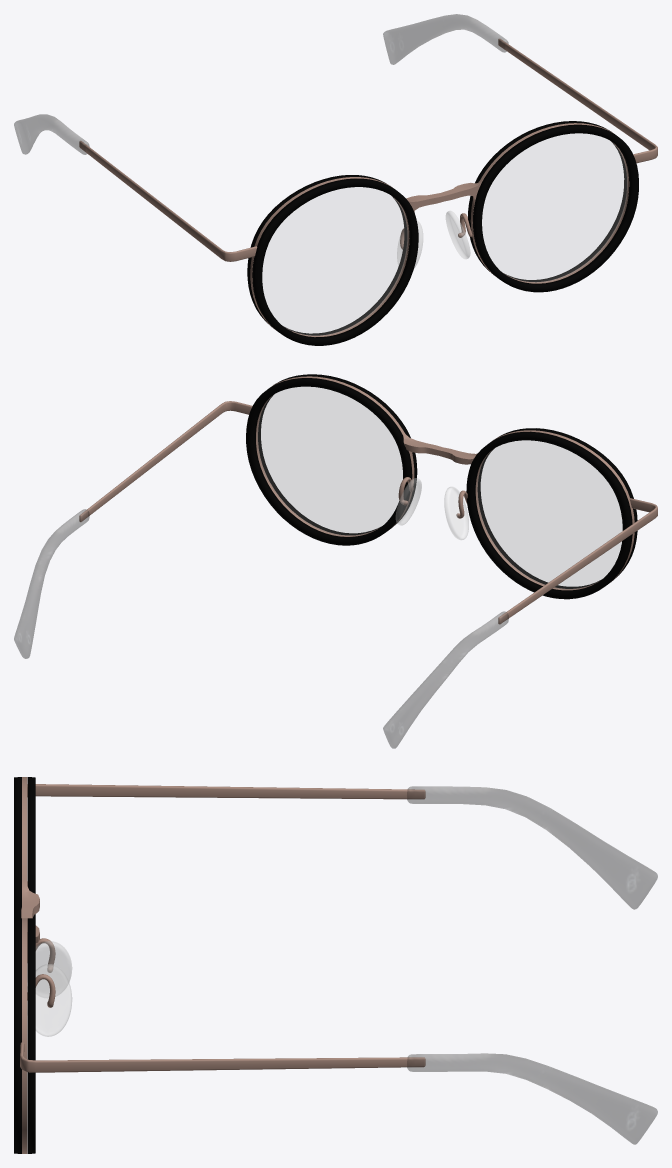
Rendered from variant-9.glb.
3 renders of one model, top to bottom at view 1: azimuth 30°, elevation 25°; view 2: azimuth 150°, elevation 25°; view 3: azimuth 270°, elevation 25°, orthographic. The views are drawn at different scales.
Parts seen in each view (by area): view 1: Circle.002, Circle.001, monture.009, Circle; view 2: Circle.002, Circle.001, monture.009, Circle; view 3: monture.009, Circle.001, Circle.
Part boxes in pixels (x1,y1,x2,y2): Circle.002: (262, 133, 627, 335); Circle.001: (247, 121, 638, 345); monture.009: (14, 14, 657, 261); Circle: (250, 123, 629, 337); Circle.002: (257, 387, 622, 589); Circle.001: (246, 374, 637, 599); monture.009: (14, 401, 657, 748); Circle: (256, 376, 634, 590); monture.009: (20, 784, 657, 1144); Circle.001: (14, 777, 72, 1153); Circle: (21, 777, 39, 1153).
Bounding box in the file's own units: 2.14 × 0.7529 × 2.09.
Materials: 5 (1 with a texture image).
